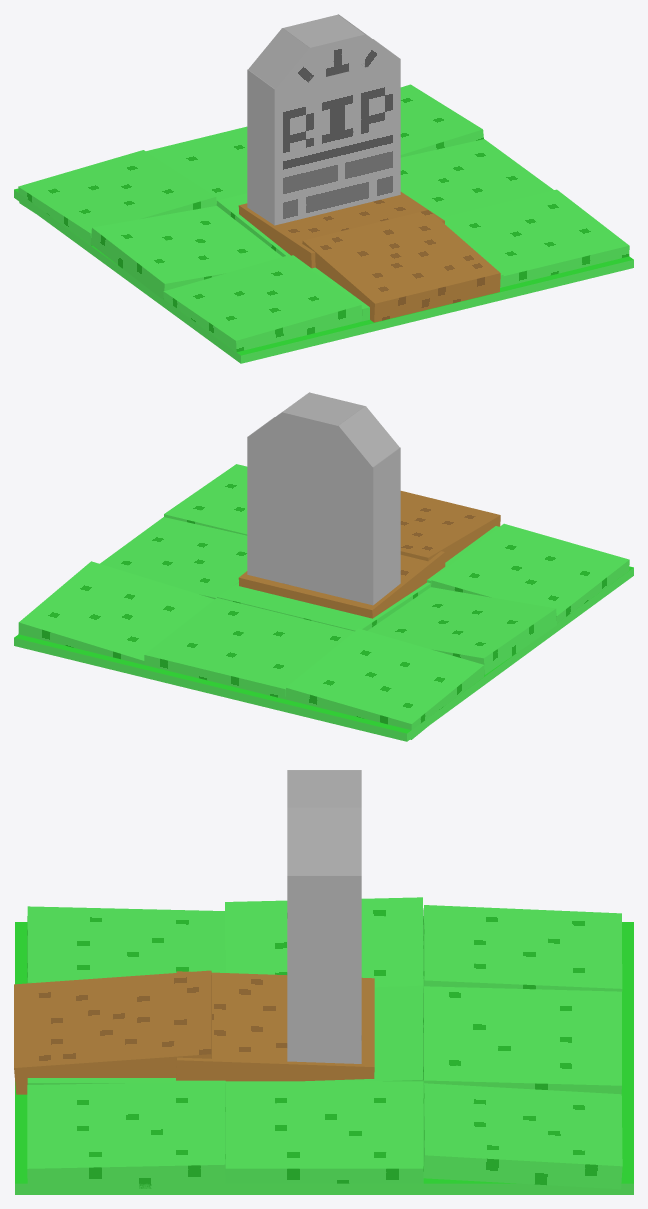
File: asset.gltf
The picture shows the model from 3 angles, top to bottom: view 1: azimuth 30°, elevation 25°; view 2: azimuth 150°, elevation 25°; view 3: azimuth 270°, elevation 25°; orthographic projection. The views are drawn at different scales.
Bounding box in the file's own units: 3.13 × 1.56 × 3.13.
1 material, 1 textured.
